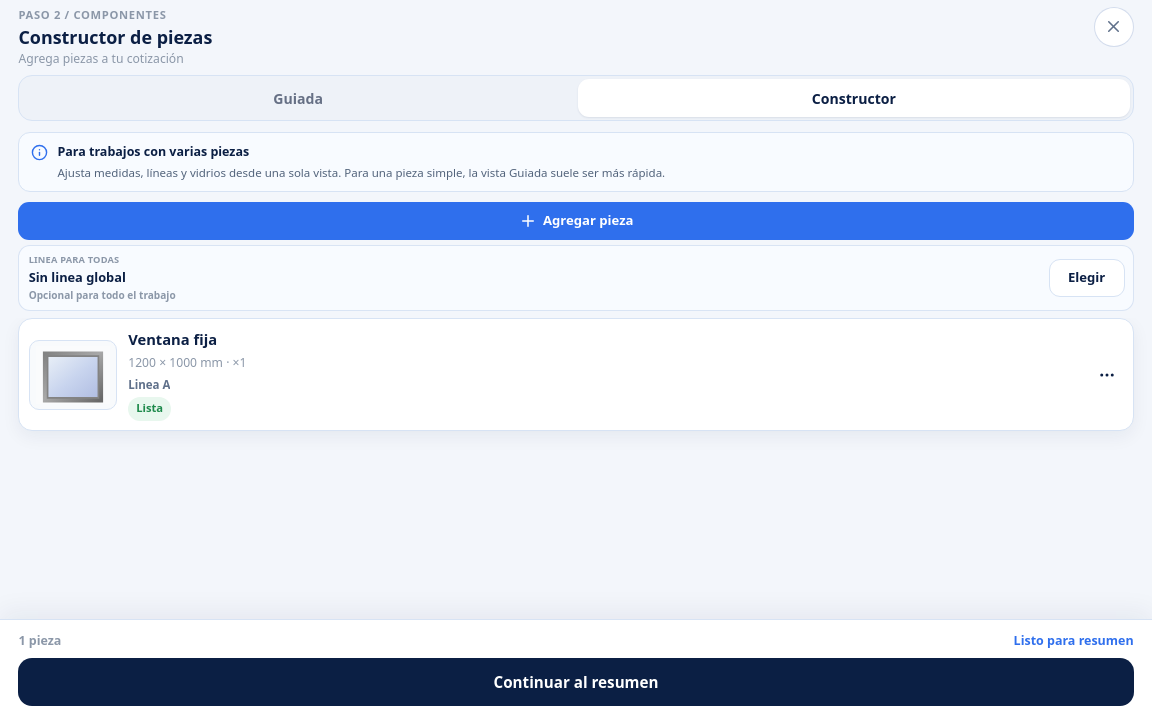
Scenario: PasoDosCuadernoMovil › ofrece puerta abatible en mas tipos y oculta puerta corredera en composicion
Click the button named "acciones de" at (1107, 374), box [1089,356,1125,392]
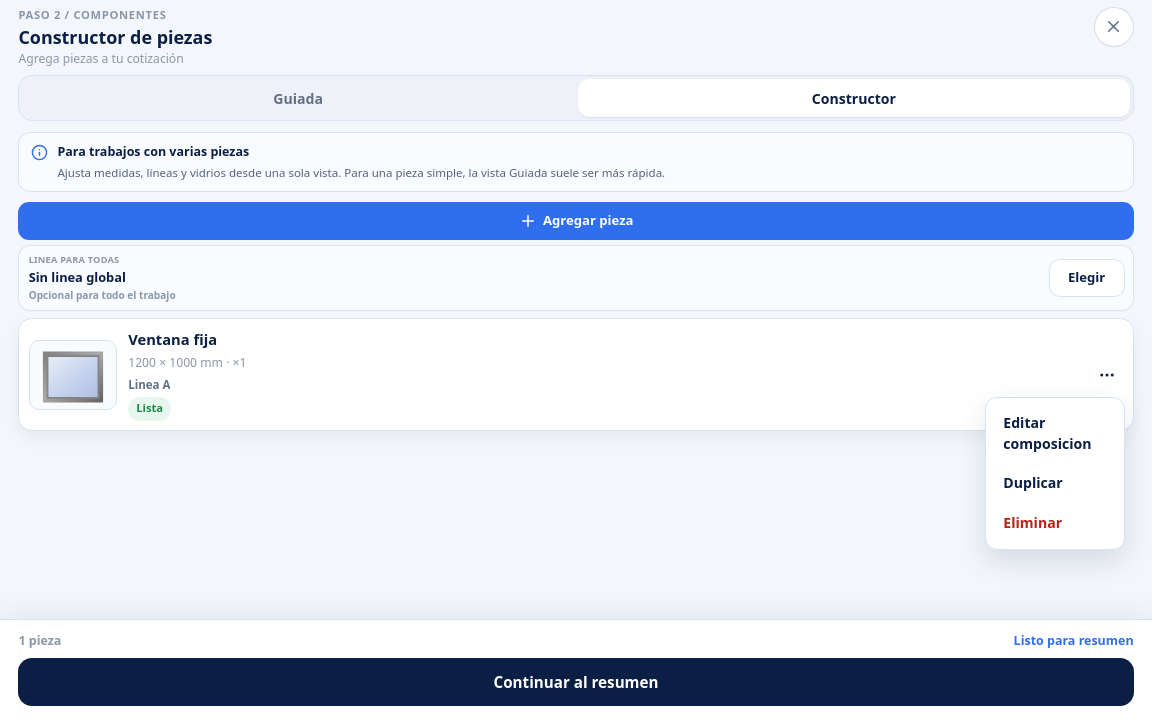
Click the menu item "Editar composicion" at (1055, 433), box [991,403,1118,463]
(page scrolled)
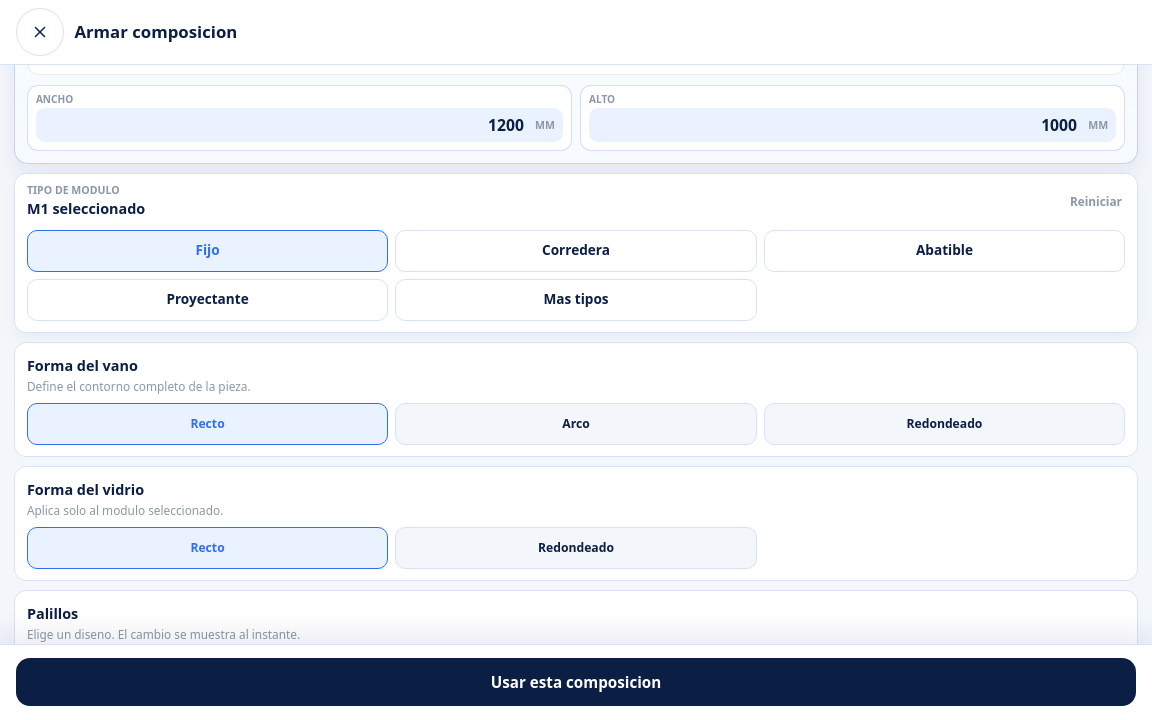
Click the button "Mas tipos" at (576, 300), box [395,279,757,321]
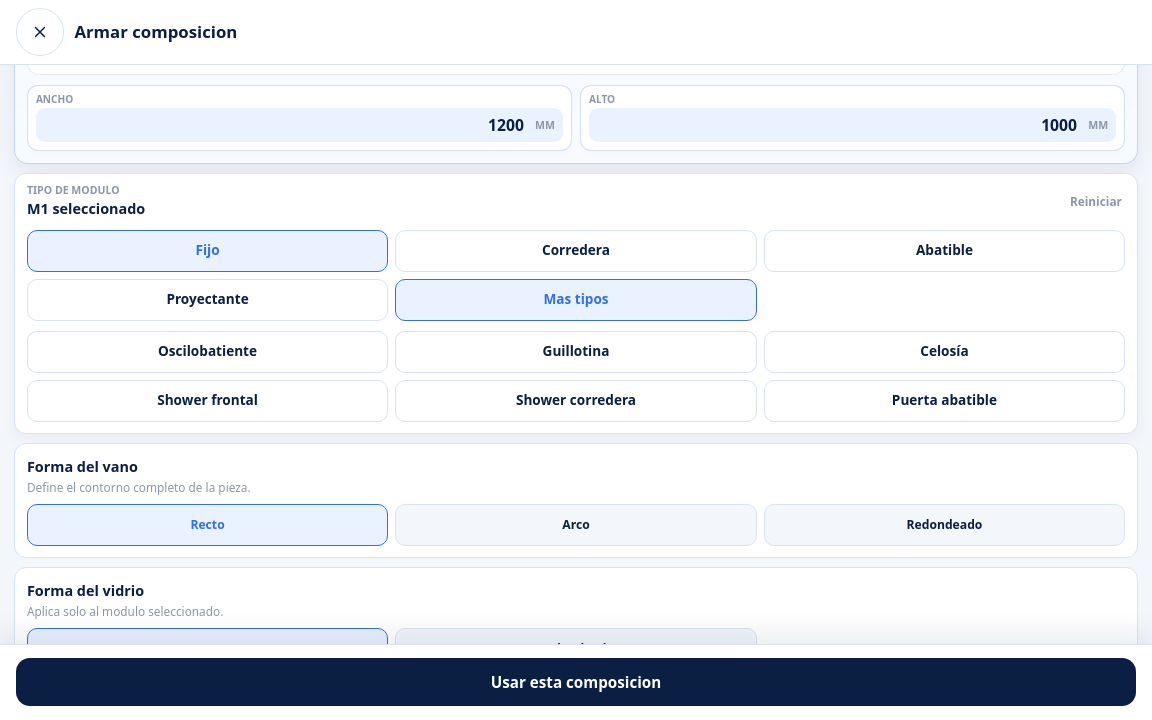
Now the button with aria-label "Cambiar modulo M1 a Puerta abatible" is shown, box [764,380,1125,422]
